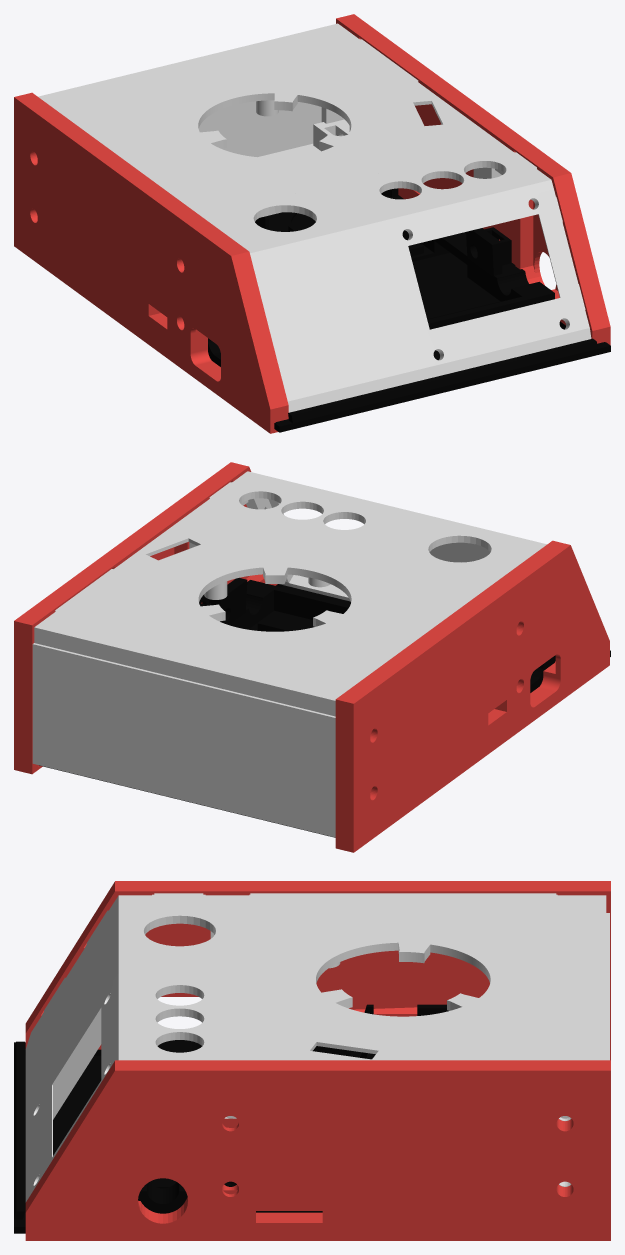
File: rotary_cell_phone_v5.glb
The picture shows the model from 3 angles, top to bottom: view 1: azimuth 30°, elevation 25°; view 2: azimuth 150°, elevation 25°; view 3: azimuth 270°, elevation 25°; orthographic projection. The views are drawn at different scales.
Visible parts, largest first — view 1: Dial Support 1.001, Cube.102, Cube.063, Cube.104, Cube.007, Cube.103, Cube.083; view 2: Dial Support 1.001, Cube.102, Cube.083, Cube.104, Cube.007, Cube.063, Cube.103; view 3: Cube.104, Dial Support 1.001, Cube.102, Cube.063, Cube.103, Cube.007, Cube.083.
Boxes of the visible parts, bbox=[...] form: Dial Support 1.001: bbox=[38, 23, 547, 250]; Cube.102: bbox=[14, 92, 288, 433]; Cube.063: bbox=[248, 177, 591, 412]; Cube.104: bbox=[336, 14, 610, 345]; Cube.007: bbox=[208, 188, 554, 366]; Cube.103: bbox=[274, 195, 610, 432]; Cube.083: bbox=[198, 101, 349, 157]; Dial Support 1.001: bbox=[34, 474, 543, 716]; Cube.102: bbox=[335, 540, 609, 852]; Cube.083: bbox=[32, 643, 335, 837]; Cube.104: bbox=[14, 462, 277, 774]; Cube.007: bbox=[199, 578, 554, 692]; Cube.063: bbox=[244, 471, 546, 601]; Cube.103: bbox=[38, 584, 610, 837]; Cube.104: bbox=[25, 1060, 610, 1240]; Dial Support 1.001: bbox=[127, 893, 606, 1121]; Cube.102: bbox=[25, 881, 610, 1060]; Cube.063: bbox=[25, 895, 127, 1202]; Cube.103: bbox=[14, 1041, 322, 1233]; Cube.007: bbox=[138, 1004, 448, 1213]; Cube.083: bbox=[559, 913, 609, 1186].
Bounding box in the file's own units: 103 × 43 × 137.
